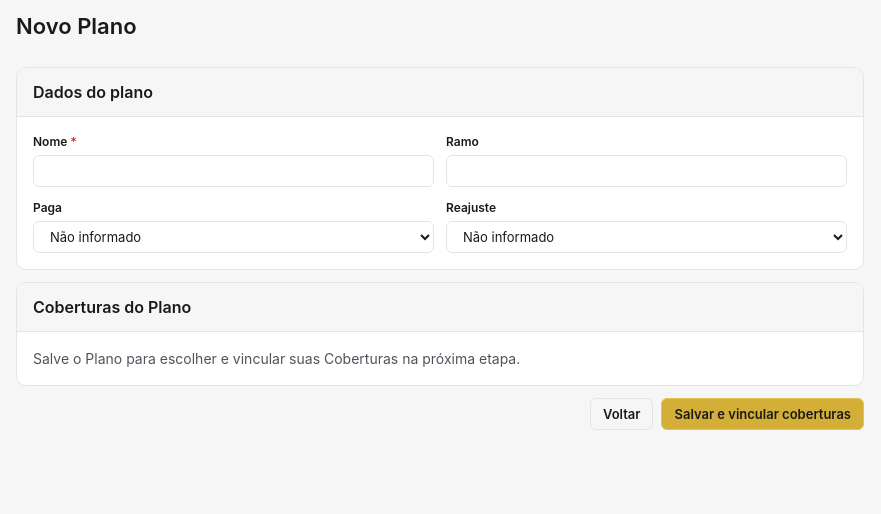
Coberturas no cadastro de Plano › abre a etapa de vínculos depois de salvar um novo Plano
The width and height of the screenshot is (881, 514).
Type "Plano Novo" into the field labelled "Nome" at (234, 171), box [33,155,434,187]
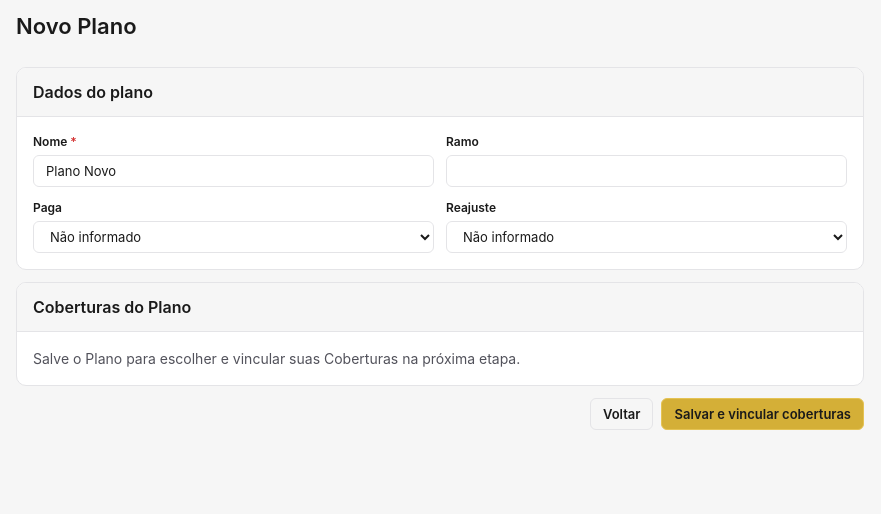
Check: the text "Salve o Plano para escolher" is shown, box [33,350,520,367]
Click the button "Salvar e vincular coberturas" at (763, 414), box [662,398,864,430]
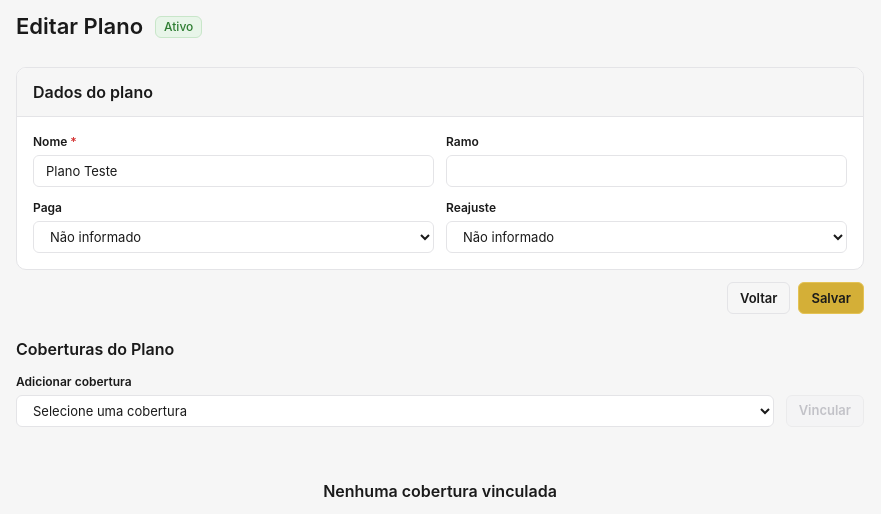
Check: the dropdown labelled "Adicionar cobertura" is shown, box [16,395,774,427]
